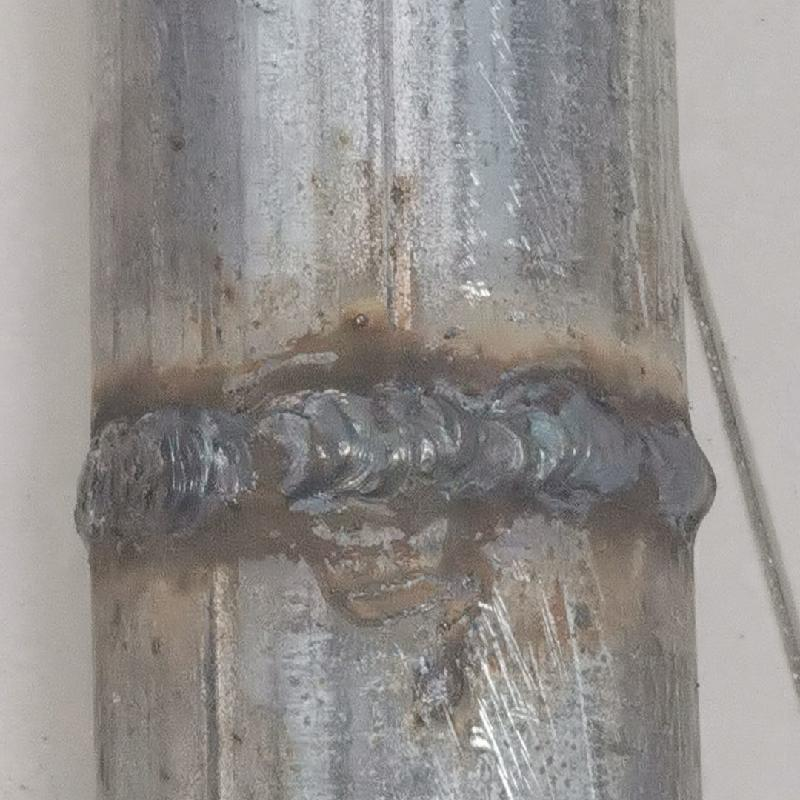good: (78, 383, 718, 537)
